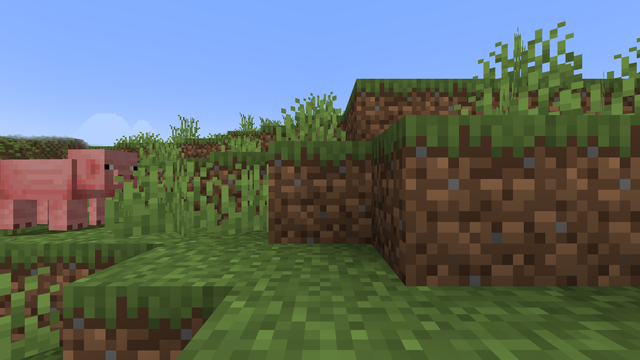cochons: (6, 156, 121, 231)
